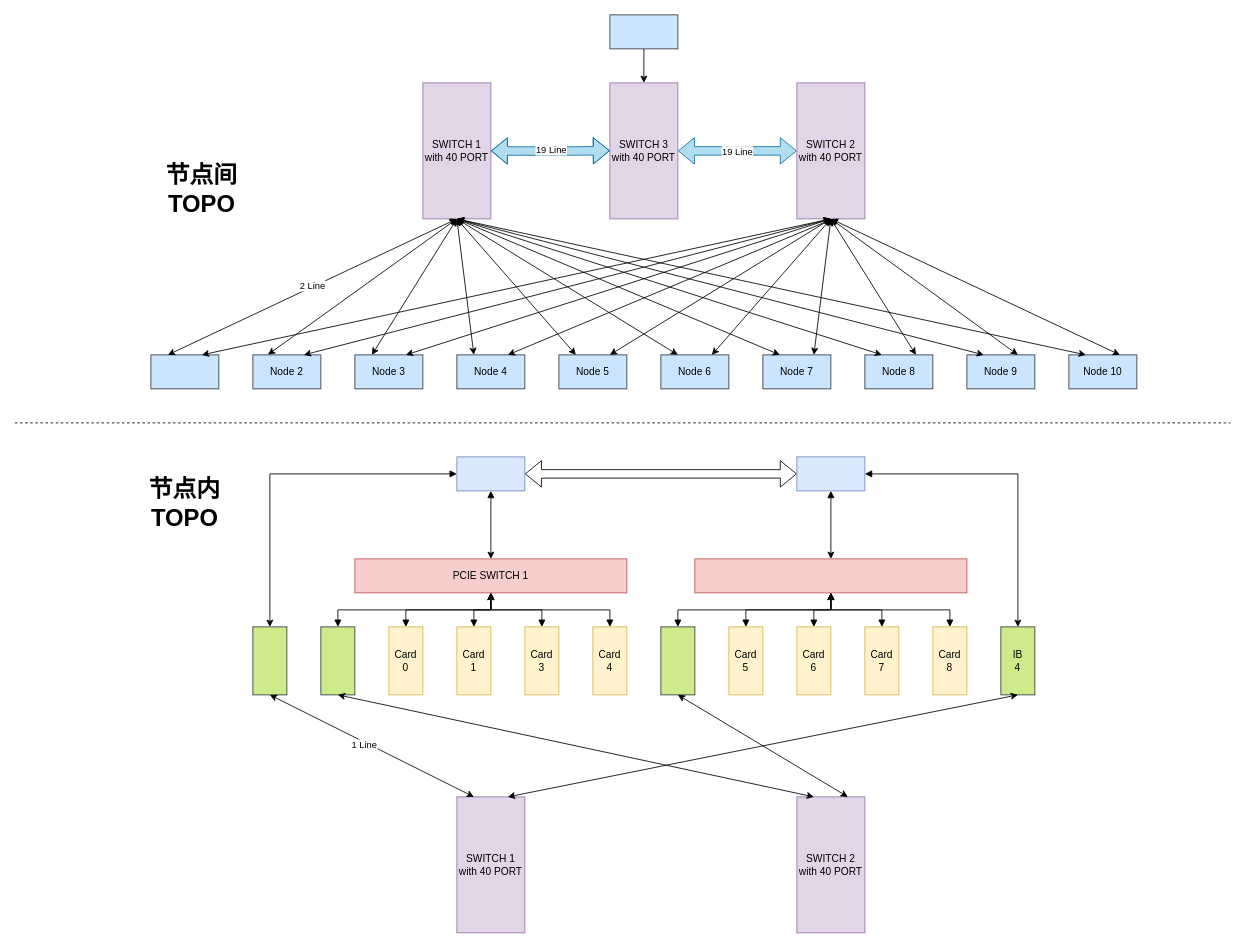
The diagram is 1246 pixels wide and 948 high, and some of its shapes have lost their labels. Each missing label, with the box of its shape:
CPU 1: (456, 456, 525, 491)
CPU 2: (796, 456, 865, 491)
IB 0: (252, 626, 287, 695)
IB 1: (320, 626, 355, 695)
IB 5: (660, 626, 695, 695)
Net Manager Node: (609, 14, 678, 49)
Node 1: (150, 354, 219, 389)
PCIE SWITCH 2: (694, 558, 967, 593)
